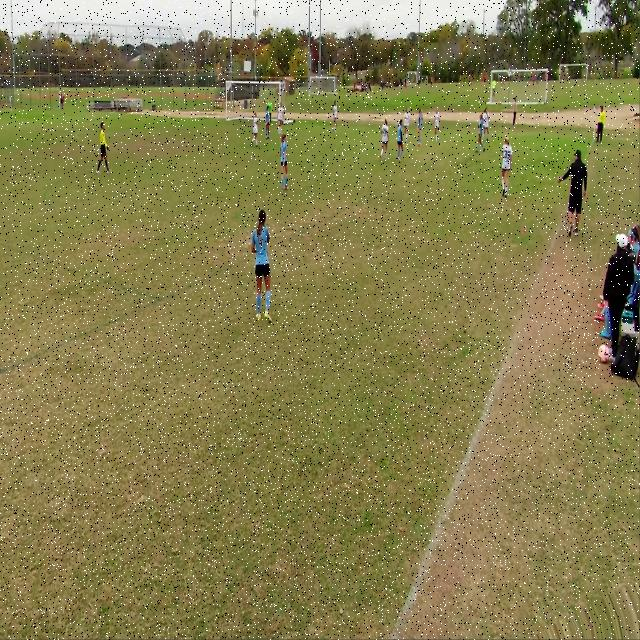GoalKeeper: (267, 100, 273, 114)
Referee: (94, 121, 110, 176), (595, 106, 606, 146)
TEAM 1: (252, 208, 276, 324), (278, 135, 290, 191), (395, 120, 405, 163), (477, 112, 487, 153), (417, 109, 425, 146), (266, 107, 270, 142)
TEAM 2: (500, 140, 513, 202), (380, 119, 390, 161), (250, 108, 260, 148), (406, 109, 415, 145), (278, 100, 286, 136), (333, 98, 340, 137), (432, 110, 440, 143), (485, 110, 492, 146)
